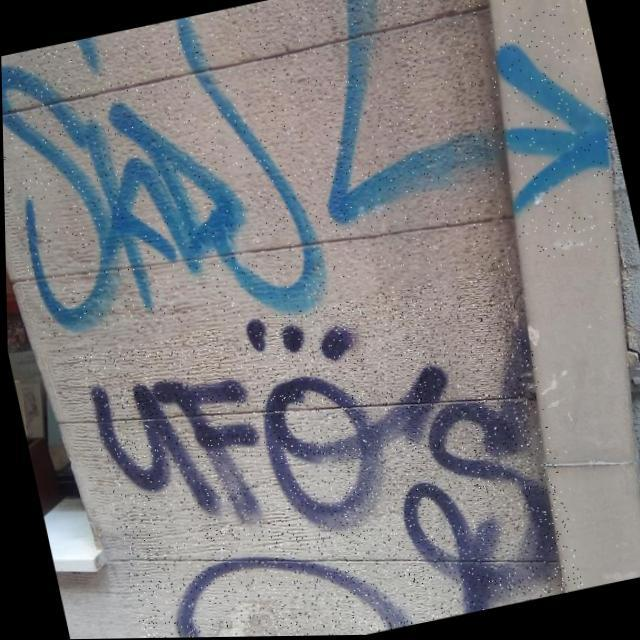-: (0, 0, 635, 364), (76, 266, 581, 640)
